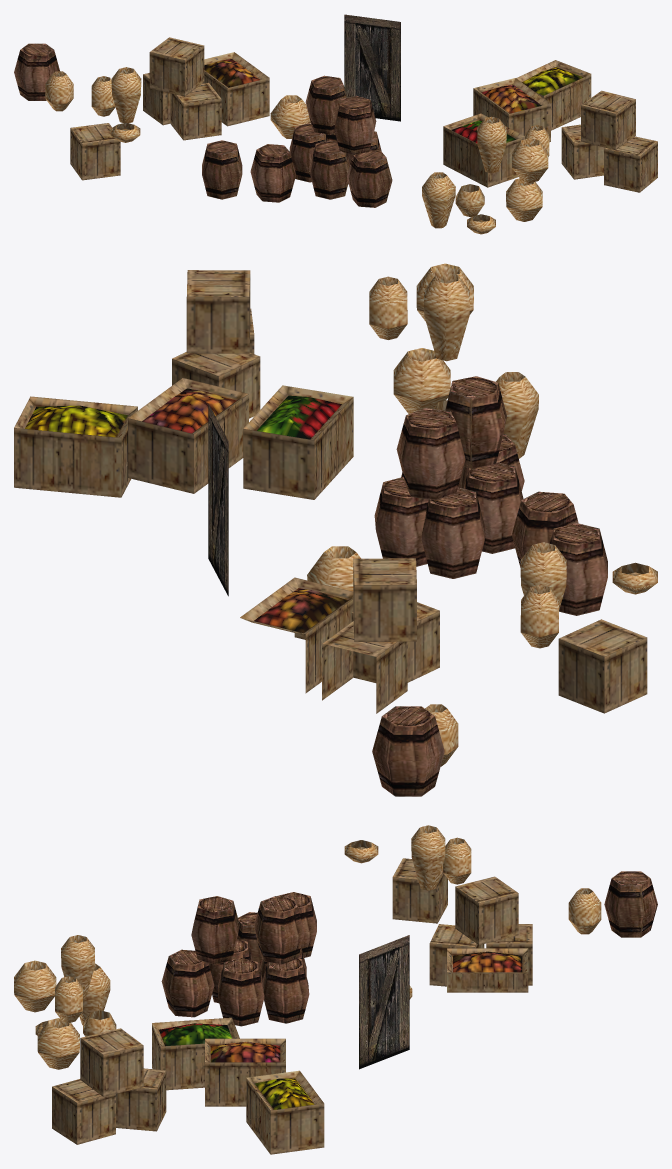
File: celt_market2_props_1.dae
3 views of the same model, one above another, from view 1: azimuth 30°, elevation 25°; view 2: azimuth 150°, elevation 25°; view 3: azimuth 270°, elevation 25° (orthographic). The views are drawn at different scales.
Visible parts, largest first — view 1: civilian_celt_prop; view 2: civilian_celt_prop; view 3: civilian_celt_prop.
Boxes of the visible parts, bbox=[...] form: civilian_celt_prop: bbox=[14, 14, 657, 234]; civilian_celt_prop: bbox=[14, 263, 657, 796]; civilian_celt_prop: bbox=[14, 825, 657, 1154].
Size of the model in its own units: 19.51 by 4.11 by 20.86.
